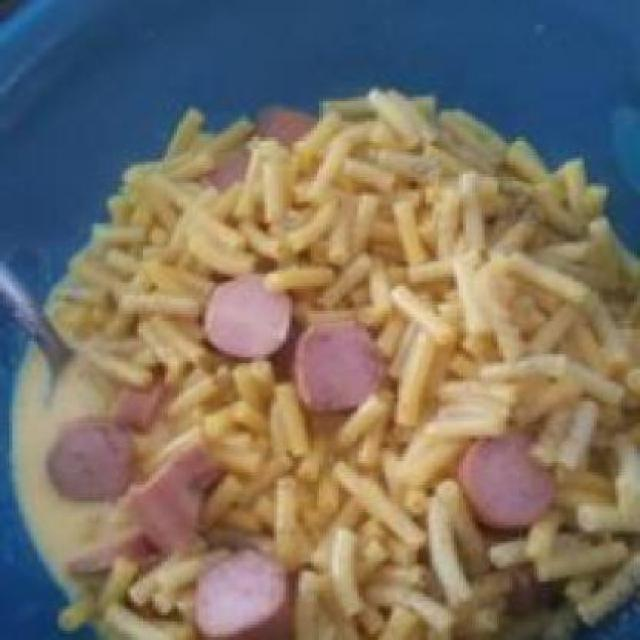hot dog: (49, 375, 280, 634), (199, 264, 392, 410), (180, 91, 323, 195), (456, 422, 566, 532)
macaroni and cheese: (21, 65, 637, 637)
